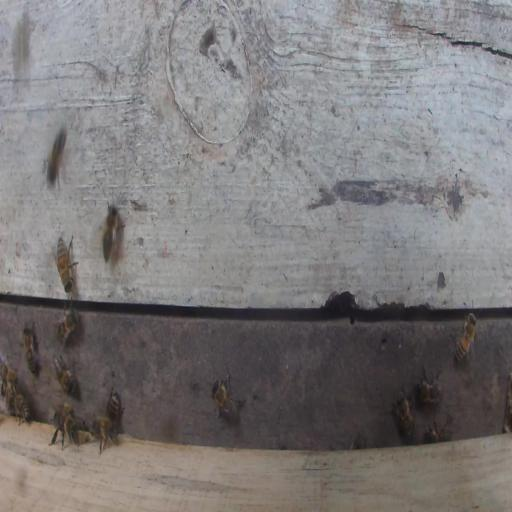bee: (211, 370, 246, 421), (99, 201, 126, 262), (54, 233, 78, 295), (46, 126, 67, 189), (390, 388, 414, 439), (454, 310, 477, 363), (53, 354, 79, 397), (92, 413, 118, 455), (415, 368, 443, 406), (52, 413, 79, 445), (57, 308, 79, 346), (0, 357, 18, 393), (23, 328, 36, 376), (424, 420, 451, 443), (106, 389, 121, 425), (11, 393, 29, 422), (117, 431, 117, 433)
